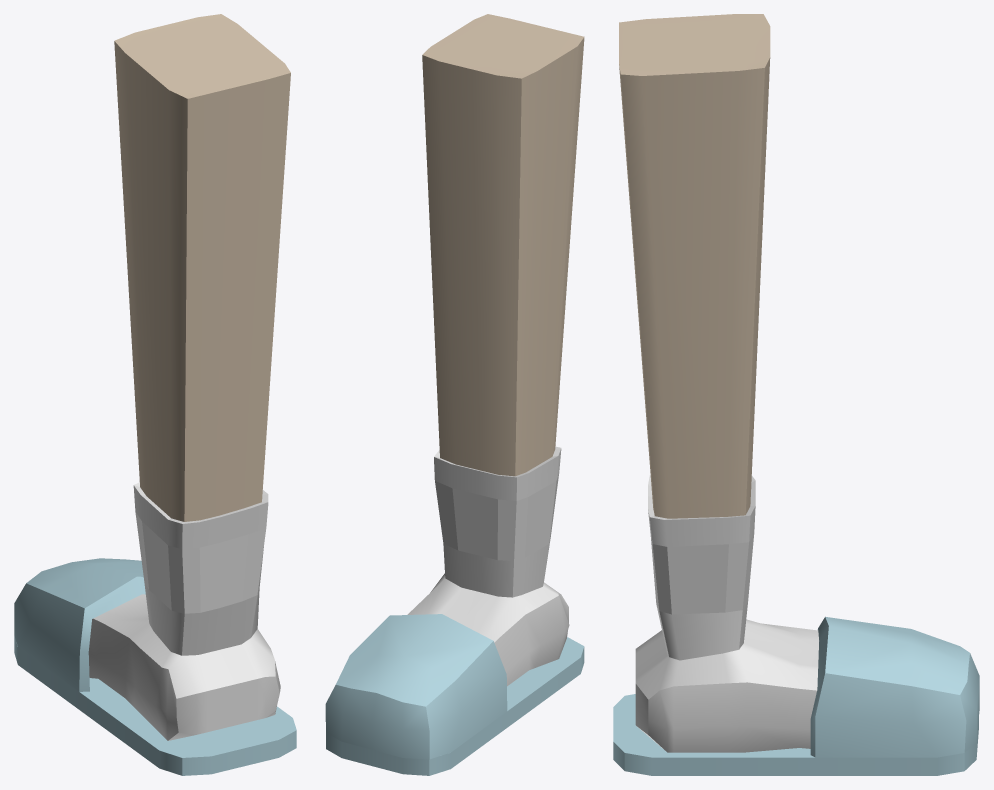
Rendered from human_right_foot_tall.fbx.
3 views of the same model, side by side, from view 1: azimuth 30°, elevation 25°; view 2: azimuth 150°, elevation 25°; view 3: azimuth 270°, elevation 25° (orthographic). The views are drawn at different scales.
Visible parts, largest first — view 1: rightFoot_tall; view 2: rightFoot_tall; view 3: rightFoot_tall.
Part boxes in pixels (<box>): rightFoot_tall: <box>14,14,296,775</box>; rightFoot_tall: <box>325,14,584,775</box>; rightFoot_tall: <box>613,14,979,775</box>.
Bounding box in the file's own units: 218 × 1066 × 506.
